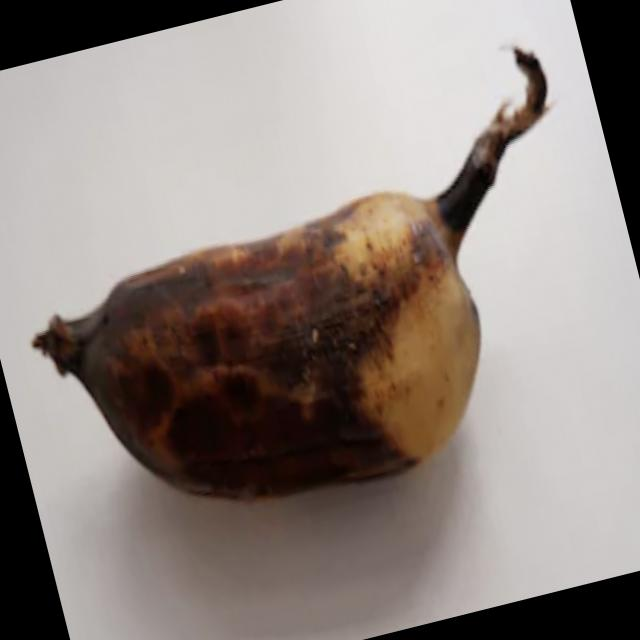rotten-banana: (27, 96, 580, 534)
